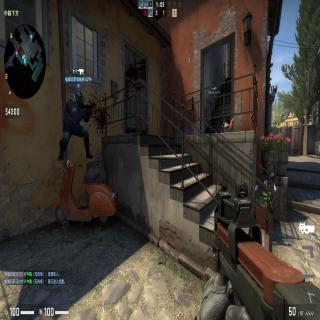CT-Body: (59, 92, 97, 162)
CT-Head: (73, 92, 84, 109)
